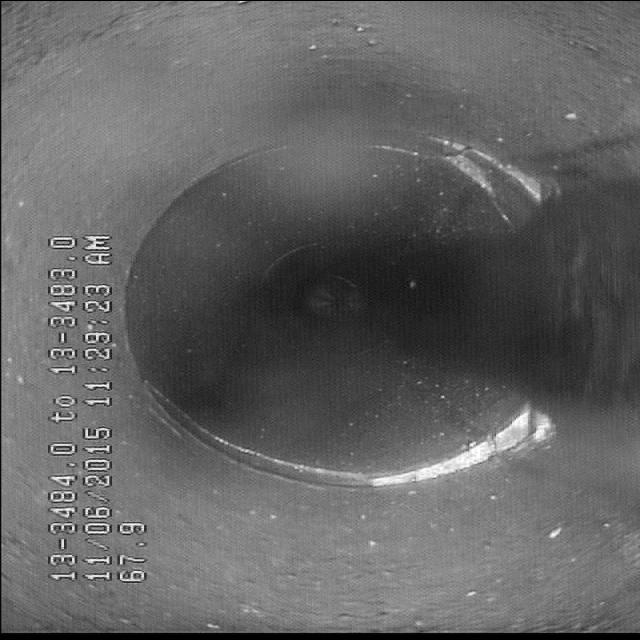Fracture: (383, 128, 533, 216)
